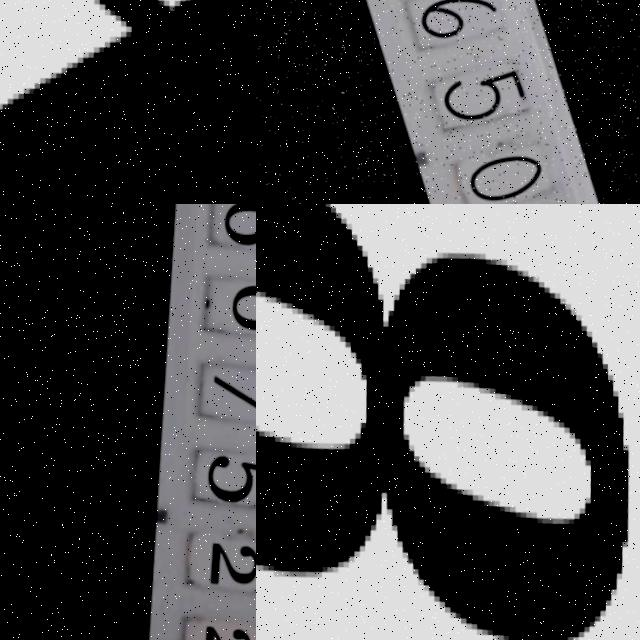0: (456, 116, 574, 204), (209, 258, 256, 332)
2: (194, 517, 256, 589), (192, 601, 256, 640)
5: (431, 34, 551, 134), (199, 431, 256, 506)
6: (406, 0, 521, 53), (212, 204, 256, 249)
7: (206, 348, 256, 421)
8: (256, 204, 640, 640)
X: (0, 0, 256, 204)
